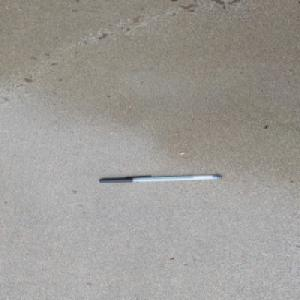Pen: (97, 173, 223, 183)
